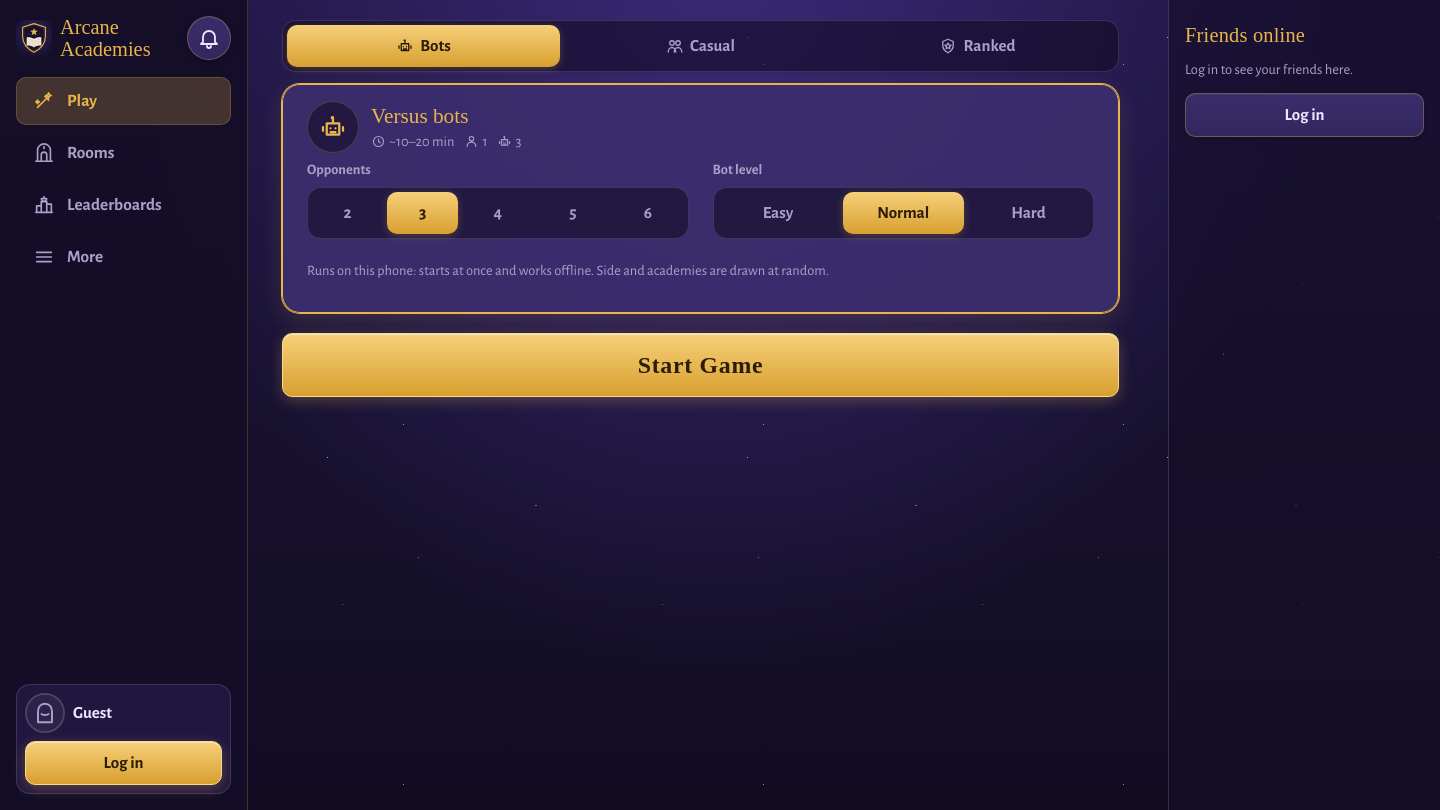
Test: Play tab › with Animations off the draw is skipped
Click the button "Start Game" at [700, 365], box [282,333,1119,397]
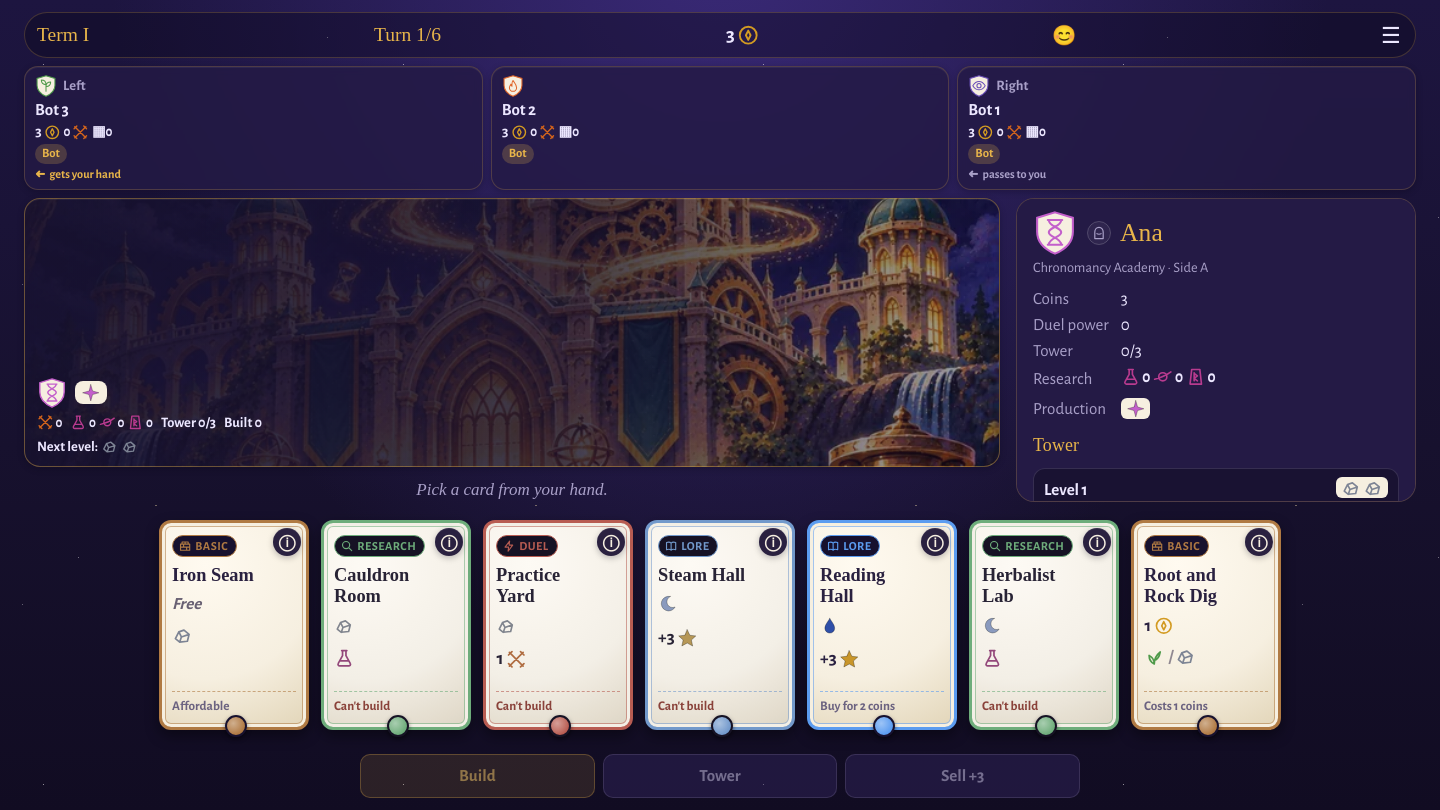
Expected: the text "Term I" is shown, [37,24,89,46]
